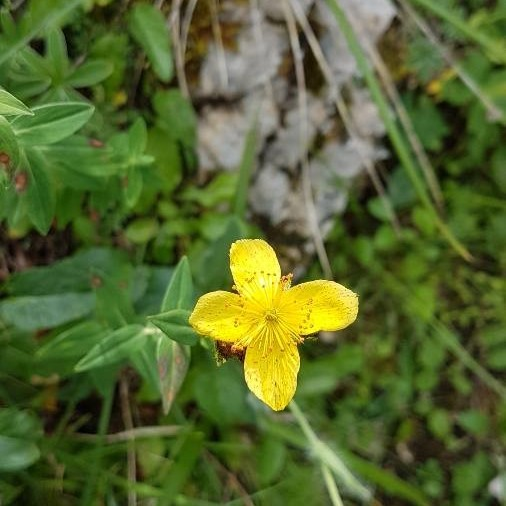obstacle: (90, 231, 356, 421)
